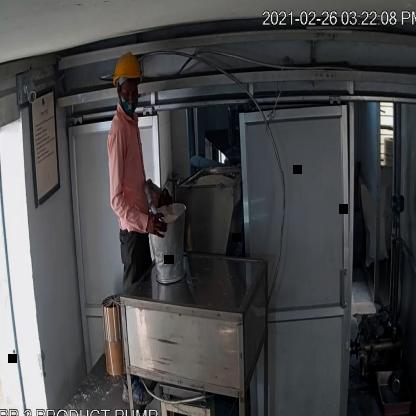helmet: (108, 49, 147, 90)
